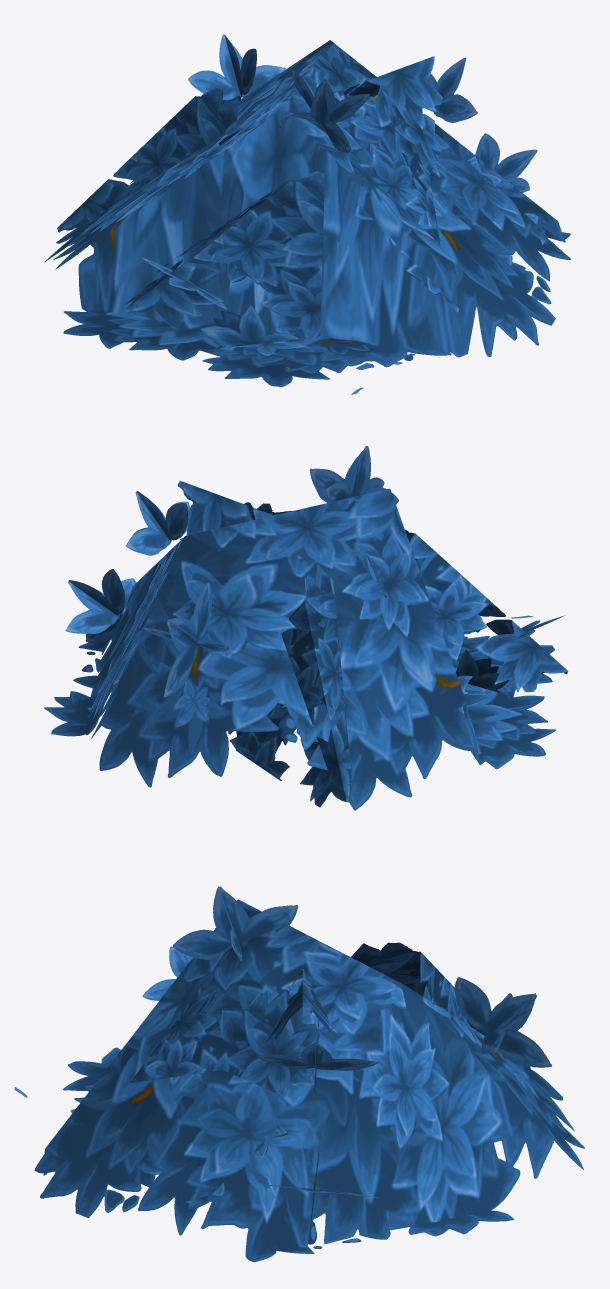
File: 2_Arbusto_Azul_LOD_2.fbx
3 views of the same model, one above another, from view 1: azimuth 30°, elevation 25°; view 2: azimuth 150°, elevation 25°; view 3: azimuth 270°, elevation 25° (orthographic). The views are drawn at different scales.
Parts seen in each view (by area): view 1: 2_Arbusto_Azul_LOD_2; view 2: 2_Arbusto_Azul_LOD_2; view 3: 2_Arbusto_Azul_LOD_2.
Part boxes in pixels (<box>): 2_Arbusto_Azul_LOD_2: <box>45,34,570,394</box>; 2_Arbusto_Azul_LOD_2: <box>44,446,567,810</box>; 2_Arbusto_Azul_LOD_2: <box>14,886,584,1262</box>.
Size of the model in its own units: 354 by 199 by 341.
